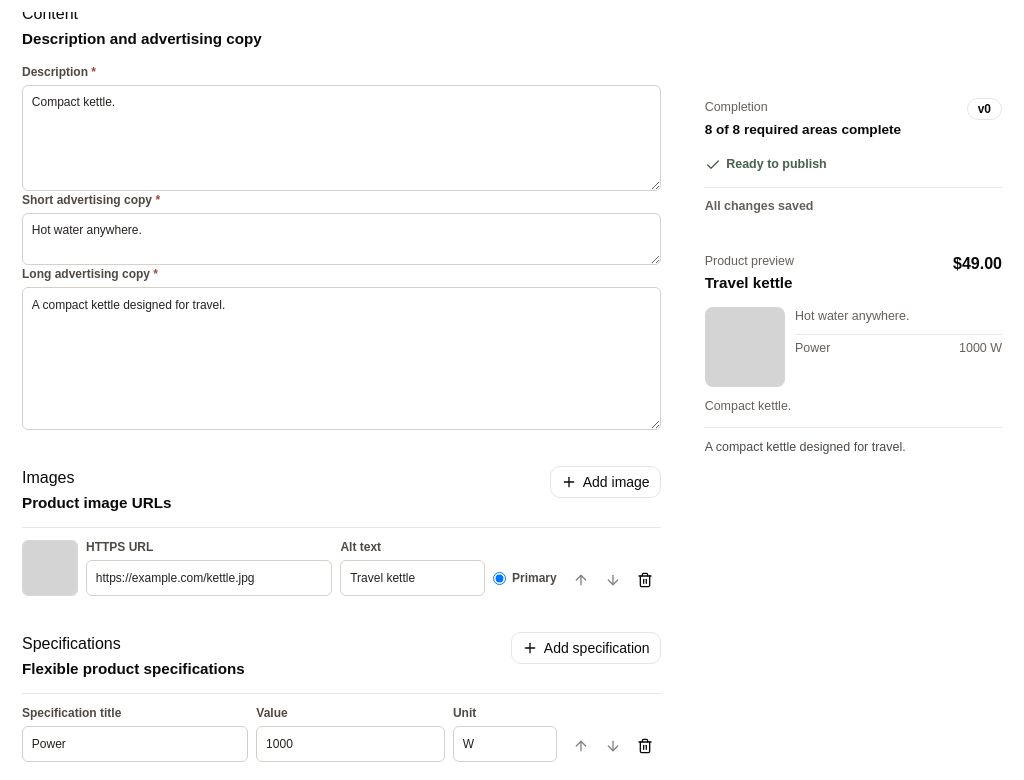
Test case: ProductEditor › reorders and removes flexible specification rows
(page scrolled)
Click the button "Add specification": (586, 648) [511,632,661,664]
(page scrolled)
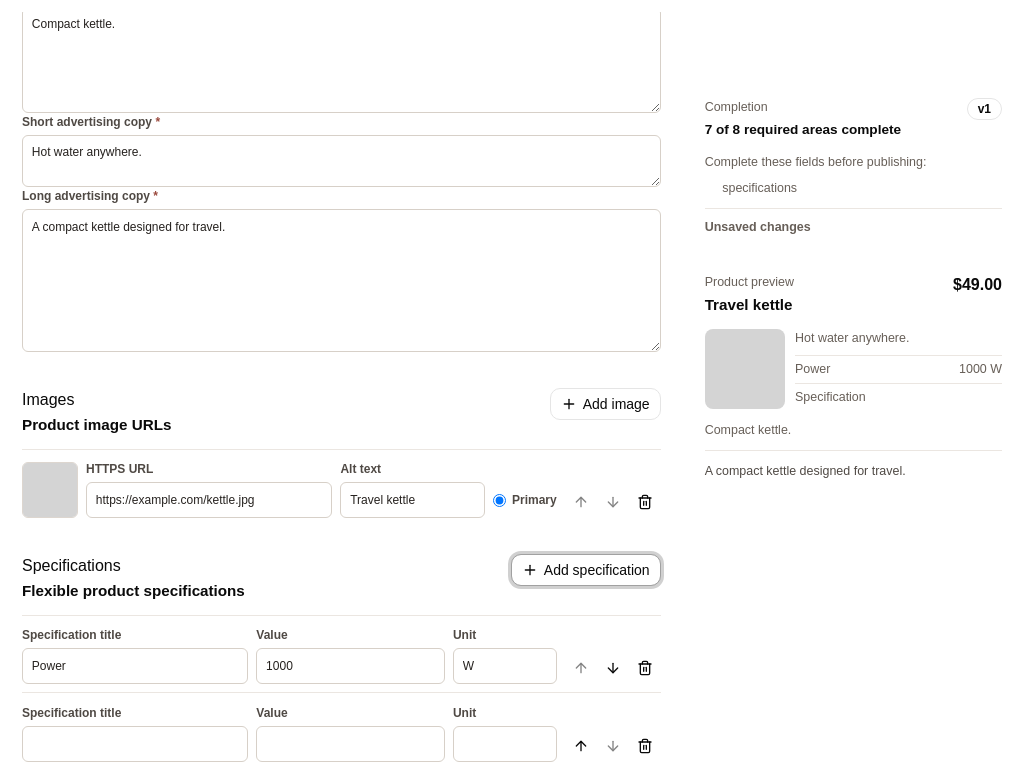
In the field named "Specification title 2": (135, 744) [22,726,248,762], type "Weight"
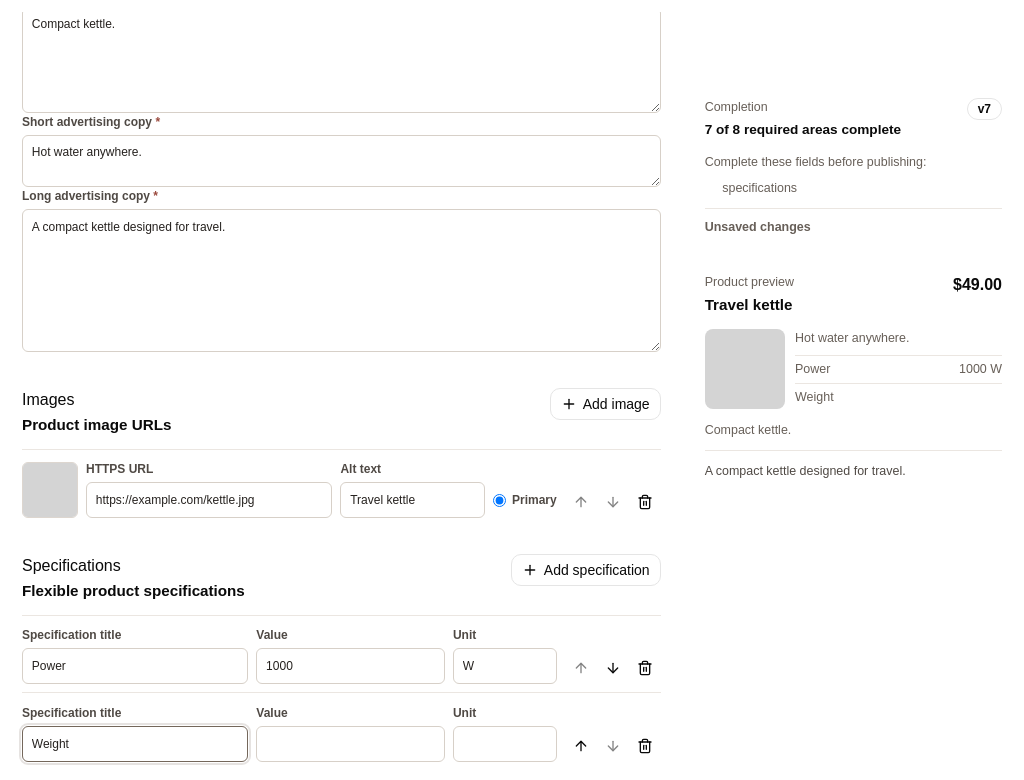
Click the 2nd button named "Move specification up": (581, 746) [565,730,597,762]
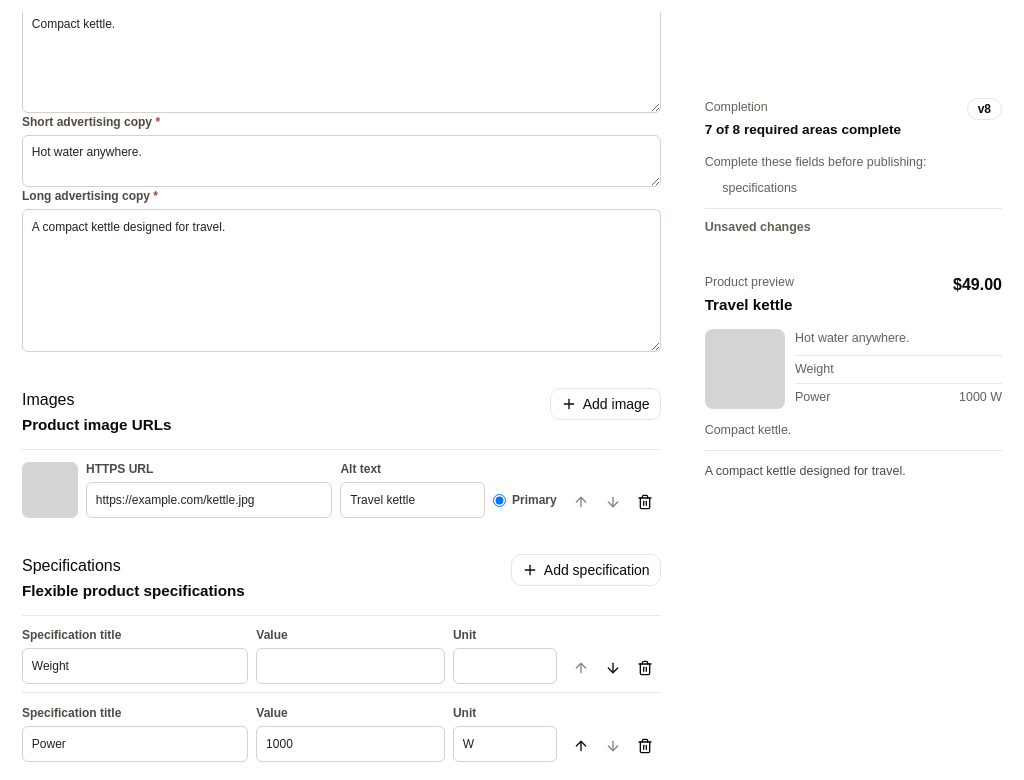
Click the 1st button named "Remove specification": (645, 668) [629,652,661,684]
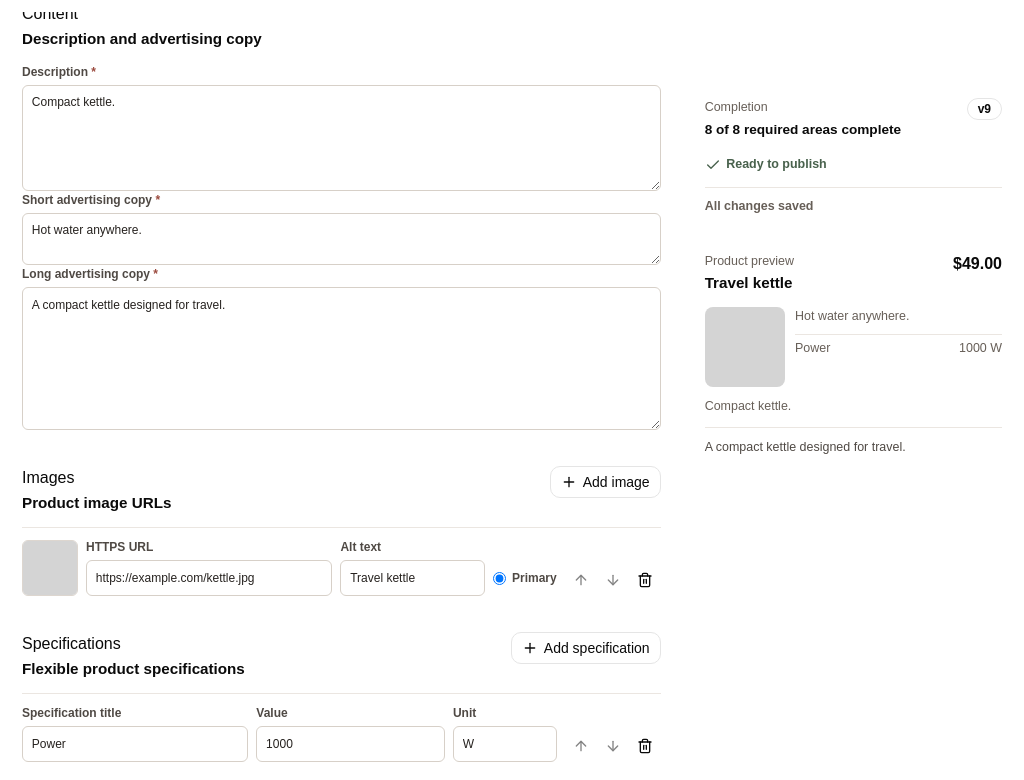
Expected: the text showing "Weight" is gone
